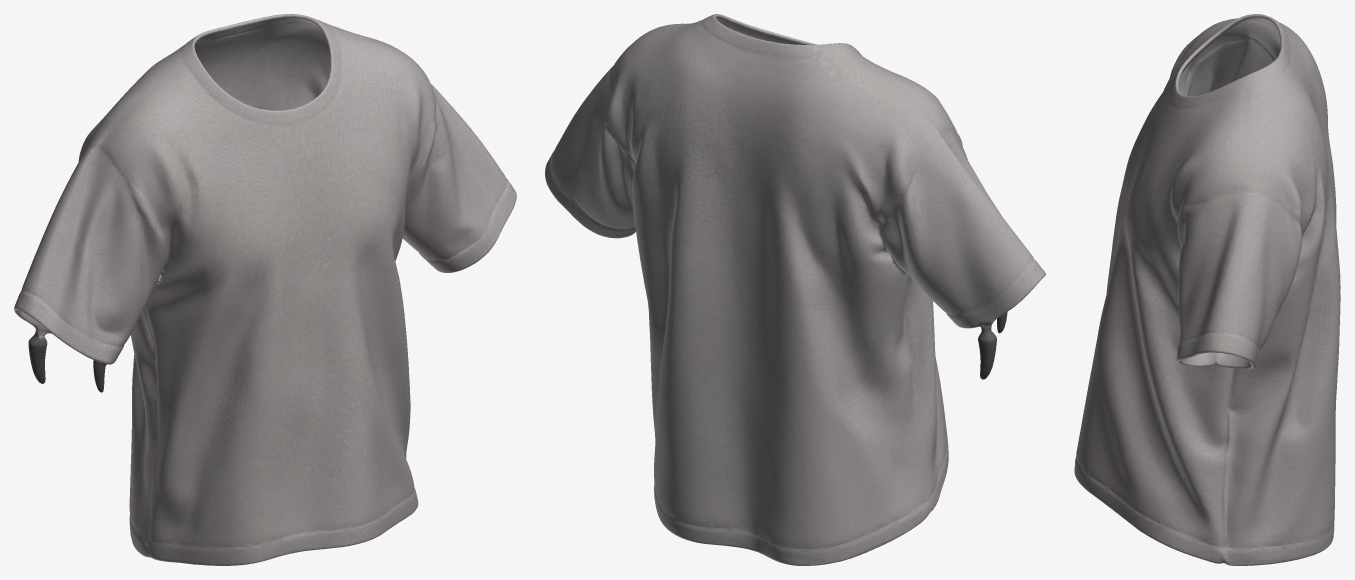
3 renders of one model, left to right at view 1: azimuth 30°, elevation 25°; view 2: azimuth 150°, elevation 25°; view 3: azimuth 270°, elevation 25°, orthographic. The views are drawn at different scales.
Parts seen in each view (by area): view 1: mesh_node; view 2: mesh_node; view 3: mesh_node.
Boxes of the visible parts, bbox=[...] form: mesh_node: bbox=[14, 14, 516, 565]; mesh_node: bbox=[545, 14, 1045, 565]; mesh_node: bbox=[1074, 14, 1340, 565].
Bounding box in the file's own units: 1.9 × 1.83 × 0.9227.
Materials: 1 (1 with a texture image).
